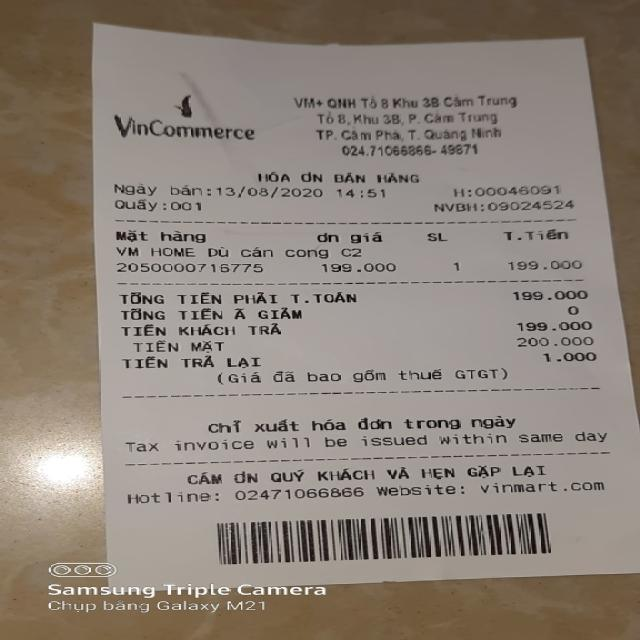Date: (214, 186, 327, 200)
Store_Name: (114, 114, 262, 144)
amount_number: (509, 289, 594, 302)
label_total: (115, 292, 358, 306)
